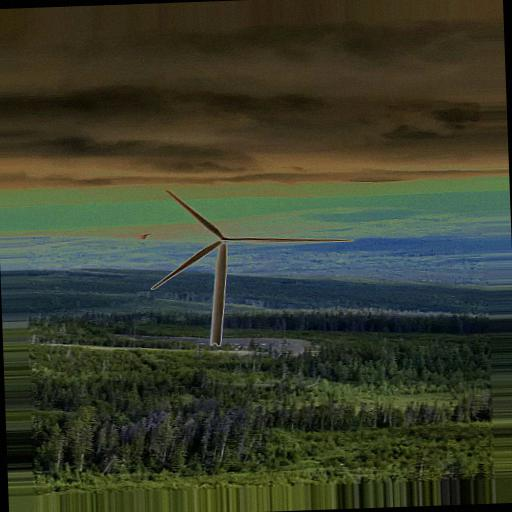wind turbine: (150, 189, 353, 345)
